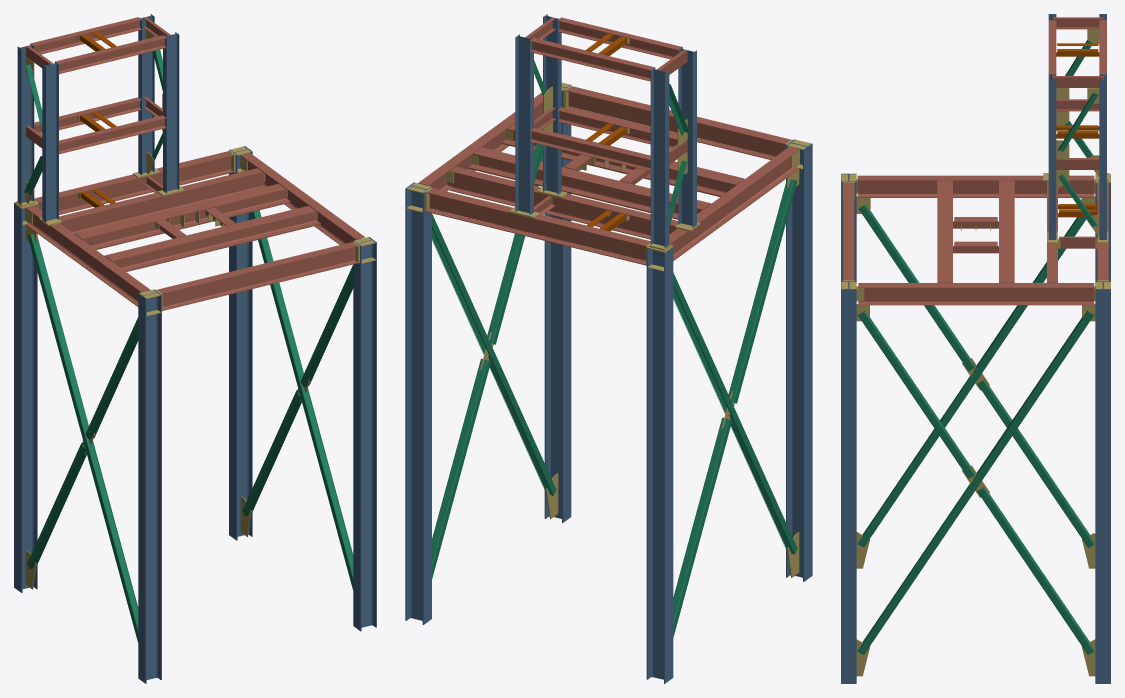
Rendered from compass-minerals-frame.glb.
3 views of the same model, side by side, from view 1: azimuth 30°, elevation 25°; view 2: azimuth 150°, elevation 25°; view 3: azimuth 270°, elevation 25° (orthographic). The views are drawn at different scales.
Parts seen in each view (by area): view 1: empty_84, empty_82, empty_85, empty_2, empty_3, empty_4, empty_5, empty_6, empty_74, empty_75, empty_77, empty_83 (+2 smaller); view 2: empty_82, empty_84, empty_85, empty_3, empty_2, empty_6, empty_4, empty_5, empty_77, empty_76, empty_74, empty_75 (+2 smaller); view 3: empty_84, empty_85, empty_2, empty_3, empty_83, empty_5, empty_6, empty_82, empty_86, empty_79, empty_81, empty_80 (+3 smaller).
Boxes of the visible parts, x1=… form: empty_84: x1=25, y1=151, x2=364, y2=310; empty_82: x1=14, y1=43, x2=161, y2=683; empty_85: x1=23, y1=36, x2=353, y2=642; empty_2: x1=353, y1=237, x2=376, y2=631; empty_3: x1=229, y1=146, x2=252, y2=540; empty_4: x1=42, y1=61, x2=58, y2=222; empty_5: x1=163, y1=32, x2=179, y2=193; empty_6: x1=138, y1=14, x2=154, y2=174; empty_74: x1=55, y1=35, x2=166, y2=73; empty_75: x1=59, y1=115, x2=166, y2=154; empty_77: x1=31, y1=17, x2=141, y2=54; empty_83: x1=25, y1=30, x2=358, y2=589; empty_82: x1=646, y1=67, x2=812, y2=683; empty_84: x1=418, y1=86, x2=799, y2=265; empty_85: x1=432, y1=60, x2=797, y2=637; empty_3: x1=405, y1=182, x2=431, y2=624; empty_2: x1=544, y1=84, x2=571, y2=522; empty_6: x1=515, y1=34, x2=533, y2=214; empty_4: x1=678, y1=47, x2=696, y2=227; empty_5: x1=543, y1=14, x2=561, y2=194; empty_77: x1=530, y1=38, x2=654, y2=81; empty_76: x1=530, y1=127, x2=650, y2=171; empty_74: x1=557, y1=17, x2=681, y2=59; empty_75: x1=557, y1=107, x2=677, y2=149; empty_84: x1=843, y1=175, x2=1108, y2=305; empty_85: x1=857, y1=40, x2=1097, y2=654; empty_2: x1=841, y1=281, x2=856, y2=683; empty_3: x1=1095, y1=281, x2=1110, y2=683; empty_83: x1=841, y1=29, x2=1102, y2=676; empty_5: x1=1048, y1=74, x2=1056, y2=239; empty_6: x1=1099, y1=74, x2=1106, y2=239; empty_82: x1=841, y1=14, x2=1110, y2=281; empty_86: x1=1056, y1=43, x2=1099, y2=138; empty_79: x1=1052, y1=17, x2=1102, y2=29; empty_81: x1=1052, y1=76, x2=1102, y2=87; empty_80: x1=1056, y1=158, x2=1099, y2=169.
Size of the model in its own units: 3.61 by 8.08 by 3.56.
